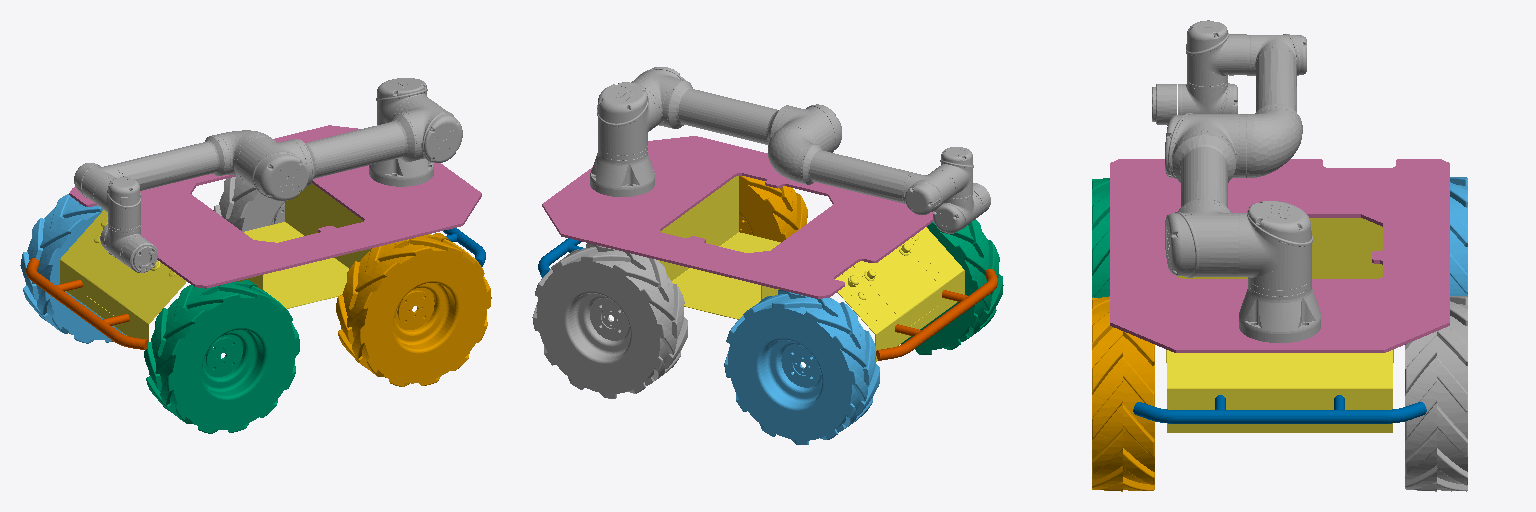
--- What the picture shows (computed from the rendered views, not written in the file) ---
The picture shows the robot from 3 angles, left to right: view 1: azimuth 30°, elevation 25°; view 2: azimuth 150°, elevation 25°; view 3: azimuth 270°, elevation 25°; orthographic projection.
Model husky with 28 links and 27 joints (6 revolute, 5 continuous, 2 prismatic, 14 fixed), rooted at world_link, posed every joint at zero.
Links seen in each view (by area): view 1: top_plate_link, rear_right_wheel_link, front_right_wheel_link, top_chassis_link, ur_arm_upper_arm_link, rear_left_wheel_link, ur_arm_forearm_link, front_left_wheel_link, rear_bumper_link, ur_arm_wrist_1_link, ur_arm_shoulder_link, ur_arm_base_link_inertia (+3 smaller); view 2: top_plate_link, rear_left_wheel_link, front_left_wheel_link, top_chassis_link, ur_arm_upper_arm_link, ur_arm_forearm_link, rear_right_wheel_link, ur_arm_shoulder_link, front_right_wheel_link, ur_arm_base_link_inertia, rear_bumper_link, ur_arm_wrist_1_link (+2 smaller); view 3: top_plate_link, top_chassis_link, ur_arm_upper_arm_link, front_left_wheel_link, front_right_wheel_link, ur_arm_forearm_link, ur_arm_shoulder_link, front_bumper_link, ur_arm_base_link_inertia, ur_arm_wrist_1_link, rear_left_wheel_link, rear_right_wheel_link (+2 smaller).
Boxes of the visible links, x1=… form: top_plate_link: x1=69, y1=125, x2=481, y2=288; rear_right_wheel_link: x1=144, y1=280, x2=299, y2=433; front_right_wheel_link: x1=336, y1=233, x2=491, y2=386; top_chassis_link: x1=60, y1=183, x2=430, y2=341; ur_arm_upper_arm_link: x1=234, y1=98, x2=462, y2=200; rear_left_wheel_link: x1=20, y1=194, x2=124, y2=343; ur_arm_forearm_link: x1=74, y1=130, x2=267, y2=203; front_left_wheel_link: x1=213, y1=176, x2=284, y2=231; rear_bumper_link: x1=26, y1=258, x2=147, y2=349; ur_arm_wrist_1_link: x1=95, y1=177, x2=140, y2=232; ur_arm_shoulder_link: x1=376, y1=78, x2=428, y2=124; ur_arm_base_link_inertia: x1=369, y1=158, x2=433, y2=186; top_plate_link: x1=542, y1=136, x2=933, y2=298; rear_left_wheel_link: x1=724, y1=290, x2=879, y2=444; front_left_wheel_link: x1=532, y1=243, x2=687, y2=398; top_chassis_link: x1=658, y1=176, x2=964, y2=361; ur_arm_upper_arm_link: x1=631, y1=67, x2=841, y2=171; ur_arm_forearm_link: x1=768, y1=126, x2=954, y2=214; rear_right_wheel_link: x1=901, y1=219, x2=1003, y2=354; ur_arm_shoulder_link: x1=597, y1=82, x2=659, y2=154; front_right_wheel_link: x1=739, y1=176, x2=807, y2=242; ur_arm_base_link_inertia: x1=590, y1=146, x2=654, y2=196; rear_bumper_link: x1=876, y1=269, x2=997, y2=360; ur_arm_wrist_1_link: x1=935, y1=147, x2=973, y2=200; top_plate_link: x1=1110, y1=159, x2=1449, y2=352; top_chassis_link: x1=1166, y1=218, x2=1393, y2=432; ur_arm_upper_arm_link: x1=1165, y1=113, x2=1246, y2=277; front_left_wheel_link: x1=1405, y1=296, x2=1467, y2=491; front_right_wheel_link: x1=1092, y1=296, x2=1154, y2=491; ur_arm_forearm_link: x1=1247, y1=34, x2=1306, y2=177; ur_arm_shoulder_link: x1=1239, y1=201, x2=1312, y2=289; front_bumper_link: x1=1133, y1=395, x2=1426, y2=423; ur_arm_base_link_inertia: x1=1239, y1=278, x2=1320, y2=342; ur_arm_wrist_1_link: x1=1186, y1=20, x2=1246, y2=89; rear_left_wheel_link: x1=1450, y1=177, x2=1467, y2=296; rear_right_wheel_link: x1=1092, y1=178, x2=1109, y2=297.
Bounding box of the posed robot: 0.9864 × 0.6851 × 0.6107 m (x, y, z).
15 mesh visuals loaded from 12 distinct referenced files (11 OBJ); not drawn: 1 (reference not matched to a file when rendering).

The robot description file, URDF, robot "husky":
<?xml version="1.0" encoding="utf-8" ?>
<!-- =================================================================================== -->
<!-- |    This document was autogenerated by xacro from /opt/ros/melodic/share/husky_description/urdf/husky.urdf.xacro | -->
<!-- |    EDITING THIS FILE BY HAND IS NOT RECOMMENDED                                 | -->
<!-- =================================================================================== -->
<!--
Software License Agreement (BSD)

\file      husky.urdf.xacro
\authors   Paul Bovbel <[email redacted]>, Devon Ash <[email redacted]>
\copyright Copyright (c) 2015, Clearpath Robotics, Inc., All rights reserved.

Redistribution and use in source and binary forms, with or without modification, are permitted provided that
the following conditions are met:
 * Redistributions of source code must retain the above copyright notice, this list of conditions and the
   following disclaimer.
 * Redistributions in binary form must reproduce the above copyright notice, this list of conditions and the
   following disclaimer in the documentation and/or other materials provided with the distribution.
 * Neither the name of Clearpath Robotics nor the names of its contributors may be used to endorse or promote
   products derived from this software without specific prior written permission.

THIS SOFTWARE IS PROVIDED BY THE COPYRIGHT HOLDERS AND CONTRIBUTORS "AS IS" AND ANY EXPRESS OR IMPLIED WAR-
RANTIES, INCLUDING, BUT NOT LIMITED TO, THE IMPLIED WARRANTIES OF MERCHANTABILITY AND FITNESS FOR A PARTICULAR
PURPOSE ARE DISCLAIMED. IN NO EVENT SHALL THE COPYRIGHT HOLDER OR CONTRIBUTORS BE LIABLE FOR ANY DIRECT, IN-
DIRECT, INCIDENTAL, SPECIAL, EXEMPLARY, OR CONSEQUENTIAL DAMAGES (INCLUDING, BUT NOT LIMITED TO, PROCUREMENT
OF SUBSTITUTE GOODS OR SERVICES; LOSS OF USE, DATA, OR PROFITS; OR BUSINESS INTERRUPTION) HOWEVER CAUSED AND
ON ANY THEORY OF LIABILITY, WHETHER IN CONTRACT, STRICT LIABILITY, OR TORT (INCLUDING NEGLIGENCE OR OTHERWISE)
ARISING IN ANY WAY OUT OF THE USE OF THIS SOFTWARE, EVEN IF ADVISED OF THE POSSIBILITY OF SUCH DAMAGE.
-->
<robot name="husky">
    <material name="dark_grey">
        <color rgba="0.2 0.2 0.2 1.0" />
    </material>
    <material name="medium_grey">
        <color rgba="0.6 0.6 0.6 1.0" />
    </material>
    <material name="light_grey">
        <color rgba="0.8 0.8 0.8 1.0" />
    </material>
    <material name="yellow">
        <color rgba="0.8 0.8 0.0 1.0" />
    </material>
    <material name="black">
        <color rgba="0.15 0.15 0.15 1.0" />
    </material>
    <material name="white">
        <color rgba="1.0 1.0 1.0 1.0" />
    </material>
    <material name="red">
        <color rgba="1.0 0.0 0.0 1.0" />
    </material>

    <!-- fictitious joints to model base movement -->
    <link name="world_link"/>
    <link name="base_link_0"/>
    <link name="base_link_1"/>
    <joint name="x" type="prismatic">
      <limit lower="-5" upper="5" effort="1000.0" velocity="1.0"/>
      <parent link="world_link"/>
      <child link="base_link_0"/>
      <axis xyz="1 0 0"/>
    </joint>
    <joint name="y" type="prismatic">
      <limit lower="-5" upper="5" effort="1000.0" velocity="1.0"/>
      <parent link="base_link_0"/>
      <child link="base_link_1"/>
      <axis xyz="0 1 0"/>
    </joint>
    <joint name="theta" type="continuous">
      <limit effort="1000.0" velocity="1.5708"/>
      <parent link="base_link_1"/>
      <child link="base_footprint"/>
      <axis xyz="0 0 1"/>
    </joint>

    <!-- Base link is the center of the robot's bottom plate -->
    <link name="base_link">
        <visual>
            <origin rpy="0 0 0" xyz="0 0 0" />
            <geometry>
                <mesh filename="package://husky_description/meshes/base_link.stl" />
            </geometry>
        </visual>
        <collision>
            <origin rpy="0 0 0" xyz="0.0 0 0.061875" />
            <geometry>
                <box size="0.9874 0.5709 0.12375" />
            </geometry>
        </collision>
<!-- 
        <collision>
            <origin rpy="0 0 0" xyz="0 0 0.175625" />
            <geometry>
                <box size="0.78992 0.5709 0.10375" />
            </geometry>
        </collision>
         -->
<inertial>
            <mass value="0.1" />
            <inertia ixx="0.03" iyy="0.03" izz="0.03" ixy="0.0" ixz="0.0" iyz="0.0" />
        </inertial>

    </link>
    <!-- Base footprint is on the ground under the robot -->
    <link name="base_footprint" />
    <joint name="base_footprint_joint" type="fixed">
        <origin rpy="0 0 0" xyz="0 0 0.13228" />
        <parent link="base_footprint" />
        <child link="base_link" />
    </joint>
    <!-- Inertial link stores the robot's inertial information -->
    <link name="inertial_link">
        
<inertial>
            <mass value="46.034" />
            <origin xyz="-0.00065 -0.085 0.062" />
            <inertia ixx="0.6022" ixy="-0.02364" ixz="-0.1197" iyy="1.7386" iyz="-0.001544" izz="2.0296" />
        </inertial>

    </link>
    <joint name="inertial_joint" type="fixed">
        <origin rpy="0 0 0" xyz="0 0 0" />
        <parent link="base_link" />
        <child link="inertial_link" />
    </joint>
    <!-- IMU Link is the standard mounting position for the UM6 IMU.-->
    <!-- Can be modified with environment variables in /etc/ros/setup.bash -->
    <link name="imu_link" />
    <joint name="imu_joint" type="fixed">
        <origin rpy="0 -1.5708 3.1416" xyz="0.19 0 0.149" />
        <parent link="base_link" />
        <child link="imu_link" />
    </joint>
    <gazebo reference="imu_link" />
    <link name="front_left_wheel_link">
        
<inertial>
            <mass value="2.637" />
            <origin xyz="0 0 0" />
            <inertia ixx="0.02467" ixy="0" ixz="0" iyy="0.04411" iyz="0" izz="0.02467" />
        </inertial>

        <visual>
            <origin rpy="0 0 0" xyz="0 0 0" />
            <geometry>
                <mesh filename="package://husky_description/meshes/wheel.obj" />
            </geometry>
        </visual>
        <collision>
            <origin rpy="1.570795 0 0" xyz="0 0 0" />
            <geometry>
                <cylinder length="0.1143" radius="0.1651" />
            </geometry>
        </collision>
    </link>
    <gazebo reference="front_left_wheel_link">
        <mu1 value="1.0" />
        <mu2 value="1.0" />
        <kp value="10000000.0" />
        <kd value="1.0" />
        <fdir1 value="1 0 0" />
    </gazebo>
    <joint name="front_left_wheel" type="continuous">
        <parent link="base_link" />
        <child link="front_left_wheel_link" />
        <origin rpy="0 0 0" xyz="0.256 0.2854 0.03282" />
        <axis rpy="0 0 0" xyz="0 1 0" />
    </joint>
    <transmission name="front_left_wheel_trans" type="SimpleTransmission">
        <type>transmission_interface/SimpleTransmission</type>
        <actuator name="front_left_wheel_motor">
            <mechanicalReduction>1</mechanicalReduction>
        </actuator>
        <joint name="front_left_wheel">
            <hardwareInterface>hardware_interface/VelocityJointInterface</hardwareInterface>
        </joint>
    </transmission>
    <link name="front_right_wheel_link">
        
<inertial>
            <mass value="2.637" />
            <origin xyz="0 0 0" />
            <inertia ixx="0.02467" ixy="0" ixz="0" iyy="0.04411" iyz="0" izz="0.02467" />
        </inertial>

        <visual>
            <origin rpy="0 0 0" xyz="0 0 0" />
            <geometry>
                <mesh filename="package://husky_description/meshes/wheel.obj" />
            </geometry>
        </visual>
        <collision>
            <origin rpy="1.570795 0 0" xyz="0 0 0" />
            <geometry>
                <cylinder length="0.1143" radius="0.1651" />
            </geometry>
        </collision>
    </link>
    <gazebo reference="front_right_wheel_link">
        <mu1 value="1.0" />
        <mu2 value="1.0" />
        <kp value="10000000.0" />
        <kd value="1.0" />
        <fdir1 value="1 0 0" />
    </gazebo>
    <joint name="front_right_wheel" type="continuous">
        <parent link="base_link" />
        <child link="front_right_wheel_link" />
        <origin rpy="0 0 0" xyz="0.256 -0.2854 0.03282" />
        <axis rpy="0 0 0" xyz="0 1 0" />
    </joint>
    <transmission name="front_right_wheel_trans" type="SimpleTransmission">
        <type>transmission_interface/SimpleTransmission</type>
        <actuator name="front_right_wheel_motor">
            <mechanicalReduction>1</mechanicalReduction>
        </actuator>
        <joint name="front_right_wheel">
            <hardwareInterface>hardware_interface/VelocityJointInterface</hardwareInterface>
        </joint>
    </transmission>
    <link name="rear_left_wheel_link">
        
<inertial>
            <mass value="2.637" />
            <origin xyz="0 0 0" />
            <inertia ixx="0.02467" ixy="0" ixz="0" iyy="0.04411" iyz="0" izz="0.02467" />
        </inertial>

        <visual>
            <origin rpy="0 0 0" xyz="0 0 0" />
            <geometry>
                <mesh filename="package://husky_description/meshes/wheel.obj" />
            </geometry>
        </visual>
        <collision>
            <origin rpy="1.570795 0 0" xyz="0 0 0" />
            <geometry>
                <cylinder length="0.1143" radius="0.1651" />
            </geometry>
        </collision>
    </link>
    <gazebo reference="rear_left_wheel_link">
        <mu1 value="1.0" />
        <mu2 value="1.0" />
        <kp value="10000000.0" />
        <kd value="1.0" />
        <fdir1 value="1 0 0" />
    </gazebo>
    <joint name="rear_left_wheel" type="continuous">
        <parent link="base_link" />
        <child link="rear_left_wheel_link" />
        <origin rpy="0 0 0" xyz="-0.256 0.2854 0.03282" />
        <axis rpy="0 0 0" xyz="0 1 0" />
    </joint>
    <transmission name="rear_left_wheel_trans" type="SimpleTransmission">
        <type>transmission_interface/SimpleTransmission</type>
        <actuator name="rear_left_wheel_motor">
            <mechanicalReduction>1</mechanicalReduction>
        </actuator>
        <joint name="rear_left_wheel">
            <hardwareInterface>hardware_interface/VelocityJointInterface</hardwareInterface>
        </joint>
    </transmission>
    <link name="rear_right_wheel_link">
        
<inertial>
            <mass value="2.637" />
            <origin xyz="0 0 0" />
            <inertia ixx="0.02467" ixy="0" ixz="0" iyy="0.04411" iyz="0" izz="0.02467" />
        </inertial>

        <visual>
            <origin rpy="0 0 0" xyz="0 0 0" />
            <geometry>
                <mesh filename="package://husky_description/meshes/wheel.obj" />
            </geometry>
        </visual>
        <collision>
            <origin rpy="1.570795 0 0" xyz="0 0 0" />
            <geometry>
                <cylinder length="0.1143" radius="0.1651" />
            </geometry>
        </collision>
    </link>
    <gazebo reference="rear_right_wheel_link">
        <mu1 value="1.0" />
        <mu2 value="1.0" />
        <kp value="10000000.0" />
        <kd value="1.0" />
        <fdir1 value="1 0 0" />
    </gazebo>
    <joint name="rear_right_wheel" type="continuous">
        <parent link="base_link" />
        <child link="rear_right_wheel_link" />
        <origin rpy="0 0 0" xyz="-0.256 -0.2854 0.03282" />
        <axis rpy="0 0 0" xyz="0 1 0" />
    </joint>
    <transmission name="rear_right_wheel_trans" type="SimpleTransmission">
        <type>transmission_interface/SimpleTransmission</type>
        <actuator name="rear_right_wheel_motor">
            <mechanicalReduction>1</mechanicalReduction>
        </actuator>
        <joint name="rear_right_wheel">
            <hardwareInterface>hardware_interface/VelocityJointInterface</hardwareInterface>
        </joint>
    </transmission>
    <!-- Spawn Husky chassis -->
    <link name="top_chassis_link">
        <visual>
            <origin rpy="0 0 0" xyz="0 0 0" />
            <geometry>
                <mesh filename="package://husky_description/meshes/top_chassis.obj" />
            </geometry>
        </visual>
    </link>
    <!-- Attach chassis to the robot -->
    <joint name="top_chassis_joint" type="fixed">
        <parent link="base_link" />
        <child link="top_chassis_link" />
    </joint>
    <link name="front_bumper_link">
        <visual>
            <geometry>
                <mesh filename="package://husky_description/meshes/bumper.obj" />
            </geometry>
        </visual>
    </link>
    <!-- Attach front bumper -->
    <joint name="front_bumper" type="fixed">
        <origin rpy="0 0 0" xyz="0.48 0 0.091" />
        <parent link="base_link" />
        <child link="front_bumper_link" />
    </joint>
    <link name="rear_bumper_link">
        <visual>
            <geometry>
                <mesh filename="package://husky_description/meshes/bumper.obj" />
            </geometry>
        </visual>
    </link>
    <!-- Attach rear bumper -->
    <joint name="rear_bumper" type="fixed">
        <origin rpy="0 0 3.14159" xyz="-0.48 0 0.091" />
        <parent link="base_link" />
        <child link="rear_bumper_link" />
    </joint>
    <link name="top_plate_link">
        <visual>
            <origin rpy="0 0 0" xyz="0 0 0" />
            <geometry>
                <mesh filename="package://husky_description/meshes/large_top_plate.obj" />
            </geometry>
        </visual>
        <collision>
            <origin rpy="0 0 0" xyz="0 0 0" />
            <geometry>
                <mesh filename="package://husky_description/meshes/large_top_plate_collision.stl" />
            </geometry>
        </collision>
        
<inertial>
            <mass value="0.1" />
            <inertia ixx="0.03" iyy="0.03" izz="0.03" ixy="0.0" ixz="0.0" iyz="0.0" />
        </inertial>

    </link>
    <!-- Attach top plate -->
    <joint name="top_plate_joint" type="fixed">
        <parent link="base_link" />
        <child link="top_plate_link" />
        <origin rpy="0 0 0" xyz="0.0812 0 0.225" />
    </joint>
    <!-- Top plate front link -->
    <joint name="top_plate_front_joint" type="fixed">
        <parent link="top_plate_link" />
        <child link="top_plate_front_link" />
        <origin rpy="0 0 0" xyz="0.4125 0 0.00672" />
    </joint>
    <!-- Top plate rear link-->
    <joint name="top_plate_rear_joint" type="fixed">
        <parent link="top_plate_link" />
        <child link="top_plate_rear_link" />
        <origin rpy="0 0 0" xyz="-0.4125 0 0.00672" />
    </joint>
    <link name="top_plate_front_link" />
    <link name="top_plate_rear_link" />
    <gazebo>
        <plugin filename="libgazebo_ros_control.so" name="gazebo_ros_control">
            <robotNamespace>/</robotNamespace>
            <legacyModeNS>true</legacyModeNS>
        </plugin>
    </gazebo>
    <gazebo>
        <plugin filename="libhector_gazebo_ros_imu.so" name="imu_controller">
            <robotNamespace>/</robotNamespace>
            <updateRate>50.0</updateRate>
            <bodyName>base_link</bodyName>
            <topicName>imu/data</topicName>
            <accelDrift>0.005 0.005 0.005</accelDrift>
            <accelGaussianNoise>0.005 0.005 0.005</accelGaussianNoise>
            <rateDrift>0.005 0.005 0.005</rateDrift>
            <rateGaussianNoise>0.005 0.005 0.005</rateGaussianNoise>
            <headingDrift>0.005</headingDrift>
            <headingGaussianNoise>0.005</headingGaussianNoise>
        </plugin>
    </gazebo>
    <gazebo>
        <plugin filename="libhector_gazebo_ros_gps.so" name="gps_controller">
            <robotNamespace>/</robotNamespace>
            <updateRate>40</updateRate>
            <bodyName>base_link</bodyName>
            <frameId>base_link</frameId>
            <topicName>navsat/fix</topicName>
            <velocityTopicName>navsat/vel</velocityTopicName>
            <referenceLatitude>49.9</referenceLatitude>
            <referenceLongitude>8.9</referenceLongitude>
            <referenceHeading>0</referenceHeading>
            <referenceAltitude>0</referenceAltitude>
            <drift>0.0001 0.0001 0.0001</drift>
        </plugin>
    </gazebo>
    <joint name="arm_mount_joint" type="fixed">
        <parent link="top_plate_front_link" />
        <child link="ur_arm_base_link" />
        <origin rpy="0 0 3.1415927" xyz="-0.105 0.0 0.0" />
    </joint>
    <!--
    Base UR robot series xacro macro.

    NOTE: this is NOT a URDF. It cannot directly be loaded by consumers
    expecting a flattened '.urdf' file. See the top-level '.xacro' for that
    (but note: that .xacro must still be processed by the xacro command).

    For use in '.launch' files: use one of the 'load_urX.launch' convenience
    launch files.

    This file models the base kinematic chain of a UR robot, which then gets
    parameterised by various configuration files to convert it into a UR3(e),
    UR5(e), UR10(e) or UR16e.

    NOTE: the default kinematic parameters (ie: link lengths, frame locations,
    offets, etc) do not correspond to any particular robot. They are defaults
    only. There WILL be non-zero offsets between the Forward Kinematics results
    in TF (ie: robot_state_publisher) and the values reported by the Teach
    Pendant.

    For accurate (and robot-specific) transforms, the 'kinematics_parameters_file'
    parameter MUST point to a .yaml file containing the appropriate values for
    the targetted robot.

    If using the UniversalRobots/Universal_Robots_ROS_Driver, follow the steps
    described in the readme of that repository to extract the kinematic
    calibration from the controller and generate the required .yaml file.

    Main author of the migration to yaml configs: Ludovic Delval.

    Contributors to previous versions (in no particular order):

     - Felix Messmer
     - Kelsey Hawkins
     - Wim Meeussen
     - Shaun Edwards
     - Nadia Hammoudeh Garcia
     - Dave Hershberger
     - G. vd. Hoorn
     - Philip Long
     - Dave Coleman
     - Miguel Prada
     - Mathias Luedtke
     - Marcel Schnirring
     - Felix von Drigalski
     - Felix Exner
     - Jimmy Da Silva
     - Ajit Krisshna N L
     - Muhammad Asif Rana
  -->
    <!--
    NOTE: the macro defined in this file is NOT part of the public API of this
          package. Users CANNOT rely on this file being available, or stored in
          this location. Nor can they rely on the existence of the macro.
  -->
    <transmission name="ur_arm_shoulder_pan_trans">
        <type>transmission_interface/SimpleTransmission</type>
        <joint name="ur_arm_shoulder_pan_joint">
            <hardwareInterface>hardware_interface/PositionJointInterface</hardwareInterface>
        </joint>
        <actuator name="ur_arm_shoulder_pan_motor">
            <mechanicalReduction>1</mechanicalReduction>
        </actuator>
    </transmission>
    <transmission name="ur_arm_shoulder_lift_trans">
        <type>transmission_interface/SimpleTransmission</type>
        <joint name="ur_arm_shoulder_lift_joint">
            <hardwareInterface>hardware_interface/PositionJointInterface</hardwareInterface>
        </joint>
        <actuator name="ur_arm_shoulder_lift_motor">
            <mechanicalReduction>1</mechanicalReduction>
        </actuator>
    </transmission>
    <transmission name="ur_arm_elbow_trans">
        <type>transmission_interface/SimpleTransmission</type>
        <joint name="ur_arm_elbow_joint">
            <hardwareInterface>hardware_interface/PositionJointInterface</hardwareInterface>
        </joint>
        <actuator name="ur_arm_elbow_motor">
            <mechanicalReduction>1</mechanicalReduction>
        </actuator>
    </transmission>
    <transmission name="ur_arm_wrist_1_trans">
        <type>transmission_interface/SimpleTransmission</type>
        <joint name="ur_arm_wrist_1_joint">
            <hardwareInterface>hardware_interface/PositionJointInterface</hardwareInterface>
        </joint>
        <actuator name="ur_arm_wrist_1_motor">
            <mechanicalReduction>1</mechanicalReduction>
        </actuator>
    </transmission>
    <transmission name="ur_arm_wrist_2_trans">
        <type>transmission_interface/SimpleTransmission</type>
        <joint name="ur_arm_wrist_2_joint">
            <hardwareInterface>hardware_interface/PositionJointInterface</hardwareInterface>
        </joint>
        <actuator name="ur_arm_wrist_2_motor">
            <mechanicalReduction>1</mechanicalReduction>
        </actuator>
    </transmission>
    <transmission name="ur_arm_wrist_3_trans">
        <type>transmission_interface/SimpleTransmission</type>
        <joint name="ur_arm_wrist_3_joint">
            <hardwareInterface>hardware_interface/PositionJointInterface</hardwareInterface>
        </joint>
        <actuator name="ur_arm_wrist_3_motor">
            <mechanicalReduction>1</mechanicalReduction>
        </actuator>
    </transmission>
    <!-- links: main serial chain -->
    <link name="ur_arm_base_link" />
    <link name="ur_arm_base_link_inertia">
        <visual>
            <origin rpy="0 0 3.14159265359" xyz="0 0 0" />
            <geometry>
                <mesh filename="package://ur_description/meshes/ur5e/visual/base.obj" />
            </geometry>
            <material name="LightGrey">
                <color rgba="0.7 0.7 0.7 1.0" />
            </material>
        </visual>
        <collision>
            <origin rpy="0 0 3.14159265359" xyz="0 0 0" />
            <geometry>
                <mesh filename="package://ur_description/meshes/ur5e/collision/base.stl" />
            </geometry>
        </collision>
        
<inertial>
            <mass value="4.0" />
            <origin rpy="0 0 0" xyz="0 0 0" />
            <inertia ixx="0.00443333156" ixy="0.0" ixz="0.0" iyy="0.00443333156" iyz="0.0" izz="0.0072" />
        </inertial>

    </link>
    <link name="ur_arm_shoulder_link">
        <visual>
            <origin rpy="0 0 3.14159265359" xyz="0 0 0" />
            <geometry>
                <mesh filename="package://ur_description/meshes/ur5e/visual/shoulder.obj" />
            </geometry>
            <material name="LightGrey">
                <color rgba="0.7 0.7 0.7 1.0" />
            </material>
        </visual>
        <collision>
            <origin rpy="0 0 3.14159265359" xyz="0 0 0" />
            <geometry>
                <mesh filename="package://ur_description/meshes/ur5e/collision/shoulder.stl" />
            </geometry>
        </collision>
        
<inertial>
            <mass value="3.7" />
            <origin rpy="0 0 0" xyz="0 0 0" />
            <inertia ixx="0.010267495893" ixy="0.0" ixz="0.0" iyy="0.010267495893" iyz="0.0" izz="0.00666" />
        </inertial>

    </link>
    <link name="ur_arm_upper_arm_link">
        <visual>
            <origin rpy="1.57079632679 0 -1.57079632679" xyz="0 0 0.138" />
            <geometry>
                <mesh filename="package://ur_description/meshes/ur5e/visual/upperarm.obj" />
            </geometry>
            <material name="LightGrey">
                <color rgba="0.7 0.7 0.7 1.0" />
            </material>
        </visual>
        <collision>
            <origin rpy="1.57079632679 0 -1.57079632679" xyz="0 0 0.138" />
            <geometry>
                <mesh filename="package://ur_description/meshes/ur5e/collision/upperarm.stl" />
            </geometry>
        </collision>
        
<inertial>
            <mass value="8.393" />
            <origin rpy="0 1.57079632679 0" xyz="-0.2125 0.0 0.138" />
            <inertia ixx="0.133885781862" ixy="0.0" ixz="0.0" iyy="0.133885781862" iyz="0.0" izz="0.0151074" />
        </inertial>

    </link>
    <link name="ur_arm_forearm_link">
        <visual>
            <origin rpy="1.57079632679 0 -1.57079632679" xyz="0 0 0.007" />
            <geometry>
                <mesh filename="package://ur_description/meshes/ur5e/visual/forearm.obj" />
            </geometry>
            <material name="LightGrey">
                <color rgba="0.7 0.7 0.7 1.0" />
            </material>
        </visual>
        <collision>
            <origin rpy="1.57079632679 0 -1.57079632679" xyz="0 0 0.007" />
            <geometry>
                <mesh filename="package://ur_description/meshes/ur5e/collision/forearm.stl" />
            </geometry>
        </collision>
        
<inertial>
            <mass value="2.275" />
            <origin rpy="0 1.57079632679 0" xyz="-0.1961 0.0 0.007" />
            <inertia ixx="0.0312093550996" ixy="0.0" ixz="0.0" iyy="0.0312093550996" iyz="0.0" izz="0.004095" />
        </inertial>

    </link>
    <link name="ur_arm_wrist_1_link">
        <visual>
            <!-- TODO: Move this to a parameter -->
            <origin rpy="1.57079632679 0 0" xyz="0 0 -0.127" />
            <geometry>
                <mesh filename="package://ur_description/meshes/ur5e/visual/wrist1.obj" />
            </geometry>
            <material name="LightGrey">
                <color rgba="0.7 0.7 0.7 1.0" />
            </material>
        </visual>
        <collision>
            <origin rpy="1.57079632679 0 0" xyz="0 0 -0.127" />
            <geometry>
                <mesh filename="package://ur_description/meshes/ur5e/collision/wrist1.stl" />
            </geometry>
        </collision>
        
<inertial>
            <mass value="1.219" />
            <origin rpy="0 0 0" xyz="0 0 0" />
            <inertia ixx="0.00255989897604" ixy="0.0" ixz="0.0" iyy="0.00255989897604" iyz="0.0" izz="0.0021942" />
        </inertial>

    </link>
    <link name="ur_arm_wrist_2_link">
        <visual>
            <origin rpy="0 0 0" xyz="0 0 -0.0997" />
            <geometry>
                <mesh filename="package://ur_description/meshes/ur5e/visual/wrist2.obj" />
            </geometry>
            <material name="LightGrey">
                <color rgba="0.7 0.7 0.7 1.0" />
            </material>
        </visual>
        <collision>
            <origin rpy="0 0 0" xyz="0 0 -0.0997" />
            <geometry>
                <mesh filename="package://ur_description/meshes/ur5e/collision/wrist2.stl" />
            </geometry>
        </collision>
        
<inertial>
            <mass value="1.219" />
            <origin rpy="0 0 0" xyz="0 0 0" />
            <inertia ixx="0.00255989897604" ixy="0.0" ixz="0.0" iyy="0.00255989897604" iyz="0.0" izz="0.0021942" />
        </inertial>

    </link>
    <link name="ur_arm_wrist_3_link">
        <visual>
            <origin rpy="1.57079632679 0 0" xyz="0 0 -0.0989" />
            <geometry>
                <mesh filename="package://ur_description/meshes/ur5e/visual/wrist3.obj" />
            </geometry>
            <material name="LightGrey">
                <color rgba="0.7 0.7 0.7 1.0" />
            </material>
        </visual>
        <collision>
            <origin rpy="1.57079632679 0 0" xyz="0 0 -0.0989" />
            <geometry>
                <mesh filename="package://ur_description/meshes/ur5e/collision/wrist3.stl" />
            </geometry>
        </collision>
        
<inertial>
            <mass value="0.1879" />
            <origin rpy="0 0 0" xyz="0.0 0.0 -0.0229" />
            <inertia ixx="9.89041005217e-05" ixy="0.0" ixz="0.0" iyy="9.89041005217e-05" iyz="0.0" izz="0.0001321171875" />
        </inertial>

    </link>
    <!-- joints: main serial chain -->
    <joint name="ur_arm_base_link-base_link_inertia" type="fixed">
        <parent link="ur_arm_base_link" />
        <child link="ur_arm_base_link_inertia" />
        <!-- 'base_link' is REP-103 aligned (so X+ forward), while the internal
           frames of the robot/controller have X+ pointing backwards.
           Use the joint between 'base_link' and 'base_link_inertia' (a dummy
           link/frame) to introduce the necessary rotation over Z (of pi rad).
      -->
        <origin rpy="0 0 3.14159265359" xyz="0 0 0" />
    </joint>
    <joint name="ur_arm_shoulder_pan_joint" type="revolute">
        <parent link="ur_arm_base_link_inertia" />
        <child link="ur_arm_shoulder_link" />
        <origin rpy="0 0 0" xyz="0 0 0.1625" />
        <axis xyz="0 0 1" />
        <limit effort="150.0" lower="-6.28318530718" upper="6.28318530718" velocity="3.14159265359" />
        <dynamics damping="0" friction="0" />
    </joint>
    <joint name="ur_arm_shoulder_lift_joint" type="revolute">
        <parent link="ur_arm_shoulder_link" />
        <child link="ur_arm_upper_arm_link" />
        <origin rpy="1.570796327 0 0" xyz="0 0 0" />
        <axis xyz="0 0 1" />
        <limit effort="150.0" lower="-6.28318530718" upper="6.28318530718" velocity="3.14159265359" />
        <dynamics damping="0" friction="0" />
    </joint>
    <joint name="ur_arm_elbow_joint" type="revolute">
        <parent link="ur_arm_upper_arm_link" />
        <child link="ur_arm_forearm_link" />
        <origin rpy="0 0 0" xyz="-0.425 0 0" />
        <axis xyz="0 0 1" />
        <limit effort="150.0" lower="-3.14159265359" upper="3.14159265359" velocity="3.14159265359" />
        <dynamics damping="0" friction="0" />
    </joint>
    <joint name="ur_arm_wrist_1_joint" type="revolute">
        <parent link="ur_arm_forearm_link" />
        <child link="ur_arm_wrist_1_link" />
        <origin rpy="0 0 0" xyz="-0.3922 0 0.1333" />
        <axis xyz="0 0 1" />
        <limit effort="28.0" lower="-6.28318530718" upper="6.28318530718" velocity="3.14159265359" />
        <dynamics damping="0" friction="0" />
    </joint>
    <joint name="ur_arm_wrist_2_joint" type="revolute">
        <parent link="ur_arm_wrist_1_link" />
        <child link="ur_arm_wrist_2_link" />
        <origin rpy="1.570796327 0 0" xyz="0 -0.0997 -2.0448811823e-11" />
        <axis xyz="0 0 1" />
        <limit effort="28.0" lower="-6.28318530718" upper="6.28318530718" velocity="3.14159265359" />
        <dynamics damping="0" friction="0" />
    </joint>
    <joint name="ur_arm_wrist_3_joint" type="revolute">
        <parent link="ur_arm_wrist_2_link" />
        <child link="ur_arm_wrist_3_link" />
        <origin rpy="1.57079632659 3.14159265359 3.14159265359" xyz="0 0.0996 -2.04283014801e-11" />
        <axis xyz="0 0 1" />
        <limit effort="28.0" lower="-6.28318530718" upper="6.28318530718" velocity="3.14159265359" />
        <dynamics damping="0" friction="0" />
    </joint>
    <!-- ROS-Industrial 'base' frame: base_link to UR 'Base' Coordinates transform -->
    <link name="ur_arm_base" />
    <joint name="ur_arm_base_link-base_fixed_joint" type="fixed">
        <!-- Note the rotation over Z of pi radians: as base_link is REP-103
           aligned (ie: has X+ forward, Y+ left and Z+ up), this is needed
           to correctly align 'base' with the 'Base' coordinate system of
           the UR controller.
      -->
        <origin rpy="0 0 3.14159265359" xyz="0 0 0" />
        <parent link="ur_arm_base_link" />
        <child link="ur_arm_base" />
    </joint>
    <!-- ROS-Industrial 'flange' frame: attachment point for EEF models -->
    <link name="ur_arm_flange" />
    <joint name="ur_arm_wrist_3-flange" type="fixed">
        <parent link="ur_arm_wrist_3_link" />
        <child link="ur_arm_flange" />
        <origin rpy="0 -1.57079632679 -1.57079632679" xyz="0 0 0" />
    </joint>
    <!-- ROS-Industrial 'tool0' frame: all-zeros tool frame -->
    <link name="ur_arm_tool0" />
    <joint name="ur_arm_flange-tool0" type="fixed">
        <!-- default toolframe: X+ left, Y+ up, Z+ front -->
        <origin rpy="1.57079632679 0 1.57079632679" xyz="0 0 0" />
        <parent link="ur_arm_flange" />
        <child link="ur_arm_tool0" />
    </joint>
    <!-- This file is a placeholder which is included by default from
       husky.urdf.xacro. If a robot is being customized and requires
       additional URDF, set the HUSKY_URDF_EXTRAS environment variable
       to the full path of the file you would like included. -->
    <transmission name="trans_front_left_wheel">
        <type>transmission_interface/SimpleTransmission</type>
        <joint name="front_left_wheel">
            <hardwareInterface>hardware_interface/EffortJointInterface</hardwareInterface>
        </joint>
        <actuator name="front_left_wheel_motor">
            <hardwareInterface>hardware_interface/EffortJointInterface</hardwareInterface>
            <mechanicalReduction>1</mechanicalReduction>
        </actuator>
    </transmission>
    <transmission name="trans_front_right_wheel">
        <type>transmission_interface/SimpleTransmission</type>
        <joint name="front_right_wheel">
            <hardwareInterface>hardware_interface/EffortJointInterface</hardwareInterface>
        </joint>
        <actuator name="front_right_wheel_motor">
            <hardwareInterface>hardware_interface/EffortJointInterface</hardwareInterface>
            <mechanicalReduction>1</mechanicalReduction>
        </actuator>
    </transmission>
    <transmission name="trans_rear_left_wheel">
        <type>transmission_interface/SimpleTransmission</type>
        <joint name="rear_left_wheel">
            <hardwareInterface>hardware_interface/EffortJointInterface</hardwareInterface>
        </joint>
        <actuator name="rear_left_wheel_motor">
            <hardwareInterface>hardware_interface/EffortJointInterface</hardwareInterface>
            <mechanicalReduction>1</mechanicalReduction>
        </actuator>
    </transmission>
    <transmission name="trans_rear_right_wheel">
        <type>transmission_interface/SimpleTransmission</type>
        <joint name="rear_right_wheel">
            <hardwareInterface>hardware_interface/EffortJointInterface</hardwareInterface>
        </joint>
        <actuator name="rear_right_wheel_motor">
            <hardwareInterface>hardware_interface/EffortJointInterface</hardwareInterface>
            <mechanicalReduction>1</mechanicalReduction>
        </actuator>
    </transmission>
    <transmission name="trans_ur_arm_shoulder_pan_joint">
        <type>transmission_interface/SimpleTransmission</type>
        <joint name="ur_arm_shoulder_pan_joint">
            <hardwareInterface>hardware_interface/EffortJointInterface</hardwareInterface>
        </joint>
        <actuator name="ur_arm_shoulder_pan_joint_motor">
            <hardwareInterface>hardware_interface/EffortJointInterface</hardwareInterface>
            <mechanicalReduction>1</mechanicalReduction>
        </actuator>
    </transmission>
    <transmission name="trans_ur_arm_shoulder_lift_joint">
        <type>transmission_interface/SimpleTransmission</type>
        <joint name="ur_arm_shoulder_lift_joint">
            <hardwareInterface>hardware_interface/EffortJointInterface</hardwareInterface>
        </joint>
        <actuator name="ur_arm_shoulder_lift_joint_motor">
            <hardwareInterface>hardware_interface/EffortJointInterface</hardwareInterface>
            <mechanicalReduction>1</mechanicalReduction>
        </actuator>
    </transmission>
    <transmission name="trans_ur_arm_elbow_joint">
        <type>transmission_interface/SimpleTransmission</type>
        <joint name="ur_arm_elbow_joint">
            <hardwareInterface>hardware_interface/EffortJointInterface</hardwareInterface>
        </joint>
        <actuator name="ur_arm_elbow_joint_motor">
            <hardwareInterface>hardware_interface/EffortJointInterface</hardwareInterface>
            <mechanicalReduction>1</mechanicalReduction>
        </actuator>
    </transmission>
    <transmission name="trans_ur_arm_wrist_1_joint">
        <type>transmission_interface/SimpleTransmission</type>
        <joint name="ur_arm_wrist_1_joint">
            <hardwareInterface>hardware_interface/EffortJointInterface</hardwareInterface>
        </joint>
        <actuator name="ur_arm_wrist_1_joint_motor">
            <hardwareInterface>hardware_interface/EffortJointInterface</hardwareInterface>
            <mechanicalReduction>1</mechanicalReduction>
        </actuator>
    </transmission>
    <transmission name="trans_ur_arm_wrist_2_joint">
        <type>transmission_interface/SimpleTransmission</type>
        <joint name="ur_arm_wrist_2_joint">
            <hardwareInterface>hardware_interface/EffortJointInterface</hardwareInterface>
        </joint>
        <actuator name="ur_arm_wrist_2_joint_motor">
            <hardwareInterface>hardware_interface/EffortJointInterface</hardwareInterface>
            <mechanicalReduction>1</mechanicalReduction>
        </actuator>
    </transmission>
    <transmission name="trans_ur_arm_wrist_3_joint">
        <type>transmission_interface/SimpleTransmission</type>
        <joint name="ur_arm_wrist_3_joint">
            <hardwareInterface>hardware_interface/EffortJointInterface</hardwareInterface>
        </joint>
        <actuator name="ur_arm_wrist_3_joint_motor">
            <hardwareInterface>hardware_interface/EffortJointInterface</hardwareInterface>
            <mechanicalReduction>1</mechanicalReduction>
        </actuator>
    </transmission>
    <gazebo>
        <plugin name="gazebo_ros_control" filename="libgazebo_ros_control.so">
            <robotNamespace>/</robotNamespace>
        </plugin>
    </gazebo>
</robot>
